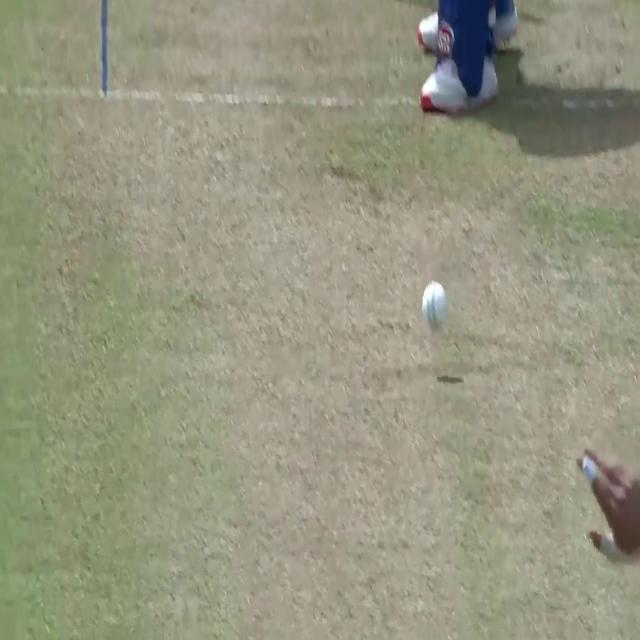ball: (422, 278, 449, 330)
